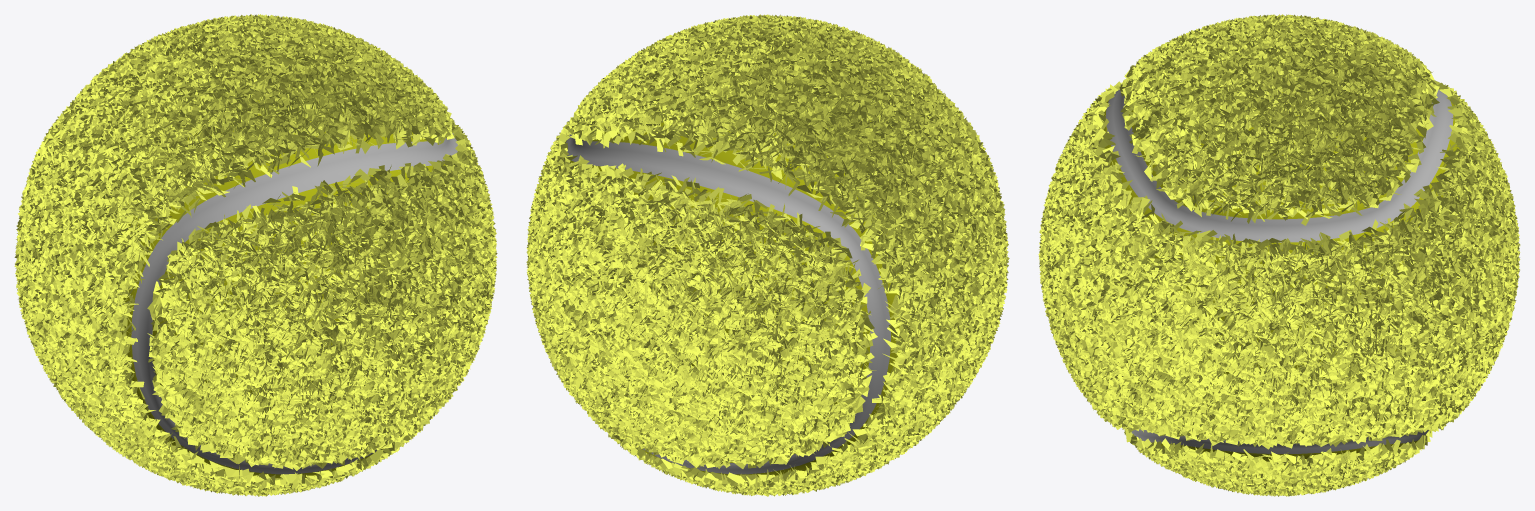
Rendered from tennis_ball.draco.min.glb.
3 views of the same model, side by side, from view 1: azimuth 30°, elevation 25°; view 2: azimuth 150°, elevation 25°; view 3: azimuth 270°, elevation 25° (orthographic).
Parts seen in each view (by area): view 1: Fuzz_Export_Fuzz_Export_0, Fuzz_Export_Ball_Lines_Export_0, Fuzz_Export_Ball_Fuzz_Export_0; view 2: Fuzz_Export_Fuzz_Export_0, Fuzz_Export_Ball_Lines_Export_0, Fuzz_Export_Ball_Fuzz_Export_0; view 3: Fuzz_Export_Fuzz_Export_0, Fuzz_Export_Ball_Lines_Export_0, Fuzz_Export_Ball_Fuzz_Export_0.
Part boxes in pixels (left/top/right/bottom): Fuzz_Export_Fuzz_Export_0: left=14, top=14, right=497, bottom=496; Fuzz_Export_Ball_Lines_Export_0: left=131, top=133, right=457, bottom=474; Fuzz_Export_Ball_Fuzz_Export_0: left=90, top=97, right=446, bottom=478; Fuzz_Export_Fuzz_Export_0: left=526, top=14, right=1009, bottom=496; Fuzz_Export_Ball_Lines_Export_0: left=566, top=134, right=891, bottom=474; Fuzz_Export_Ball_Fuzz_Export_0: left=565, top=90, right=935, bottom=477; Fuzz_Export_Fuzz_Export_0: left=1038, top=14, right=1520, bottom=496; Fuzz_Export_Ball_Lines_Export_0: left=1105, top=89, right=1453, bottom=453; Fuzz_Export_Ball_Fuzz_Export_0: left=1090, top=92, right=1459, bottom=461.
Bounding box in the file's own units: 1.69 × 1.69 × 1.69.
3 materials, 1 textured.
